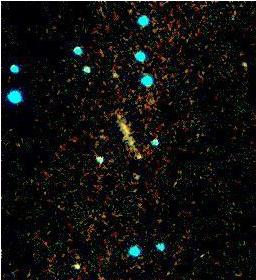star: (122, 143, 152, 173)
